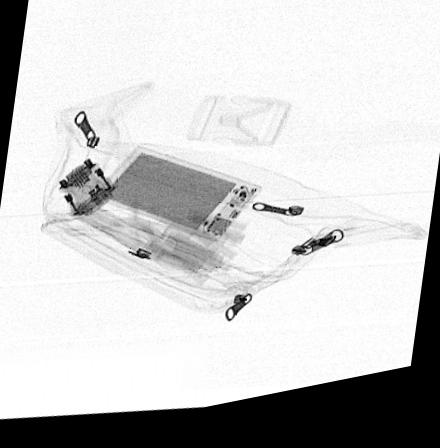Powerbank: (92, 150, 264, 253)
